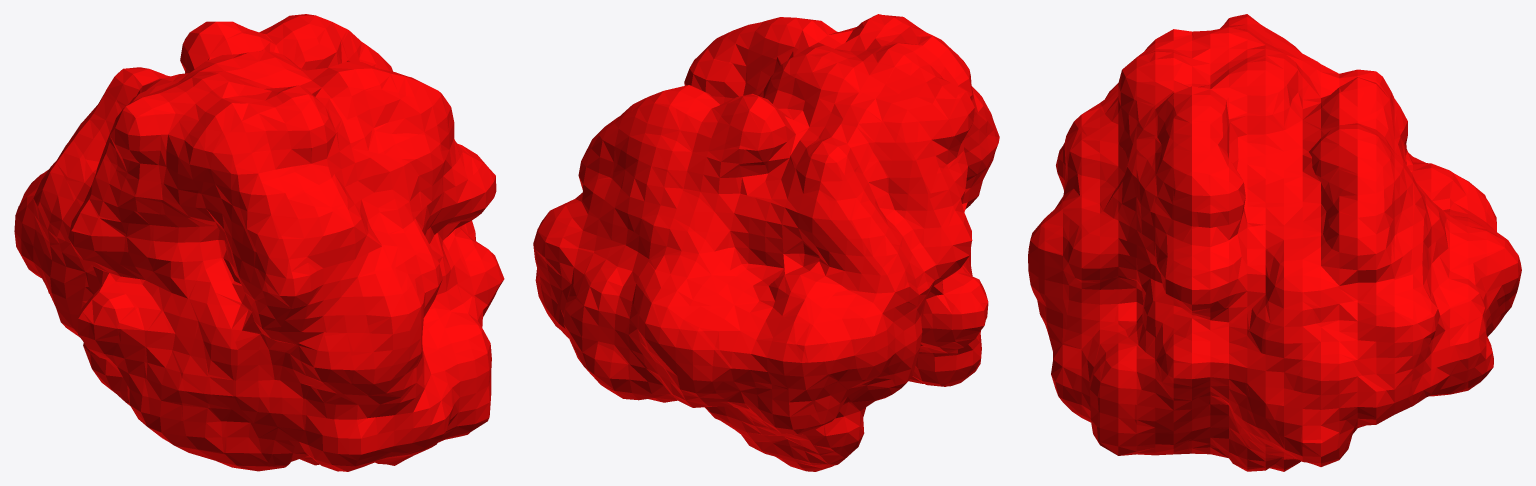
Rendered from aceA_coarse.dae.
The picture shows the model from 3 angles, left to right: view 1: azimuth 30°, elevation 25°; view 2: azimuth 150°, elevation 25°; view 3: azimuth 270°, elevation 25°; orthographic projection. The views are drawn at different scales.
Parts seen in each view (by area): view 1: aceA; view 2: aceA; view 3: aceA.
Part boxes in pixels (<box>): aceA: <box>14,14,504,471</box>; aceA: <box>533,14,999,471</box>; aceA: <box>1028,14,1521,471</box>.
Bounding box in the file's own units: 91.86 × 86.25 × 100.
